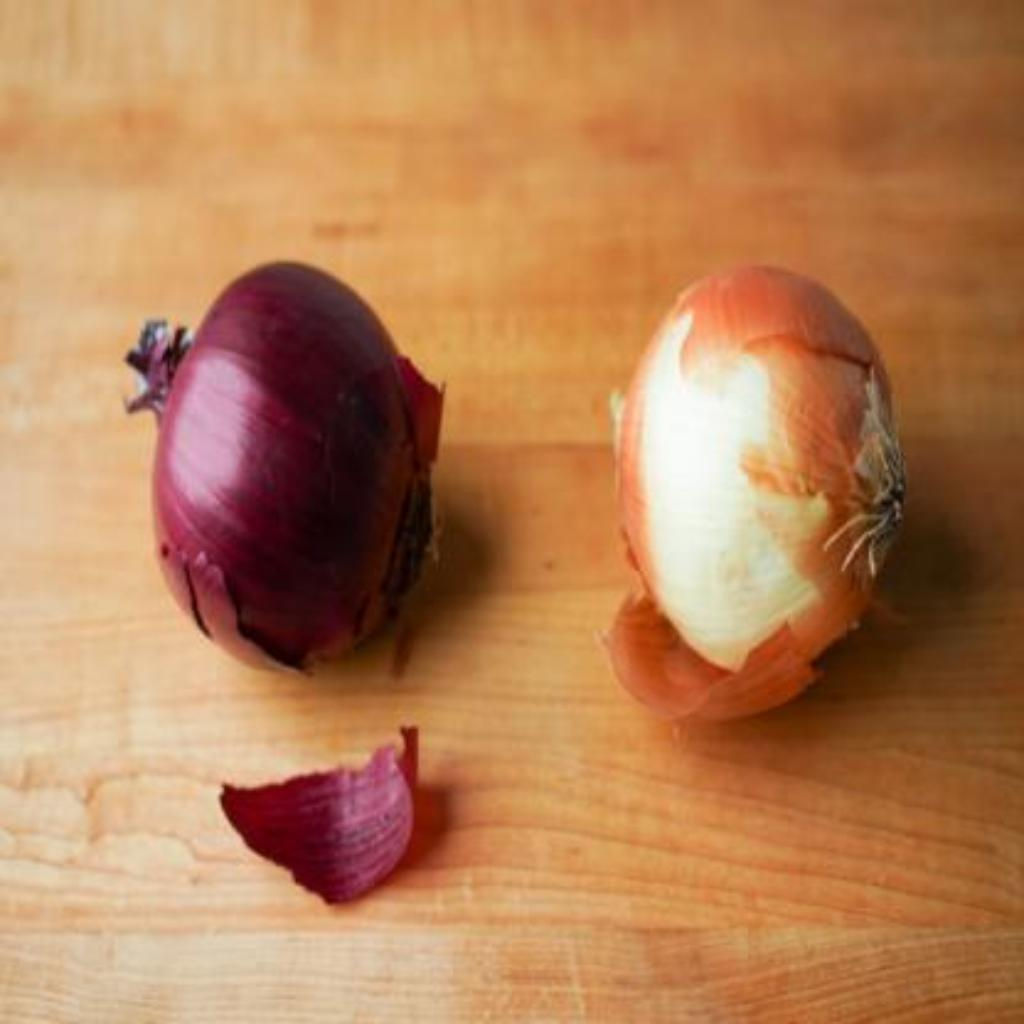Onion: (608, 266, 908, 722), (126, 263, 443, 671)
